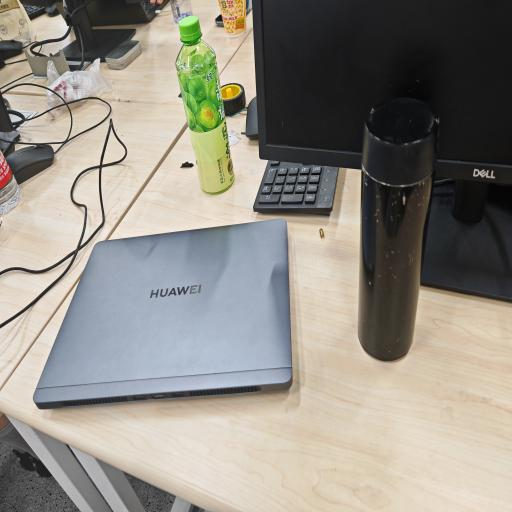laptop: (33, 219, 292, 409)
mouse: (6, 145, 54, 184), (244, 97, 258, 139), (0, 40, 23, 60)
